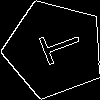T: (29, 24, 85, 70)
